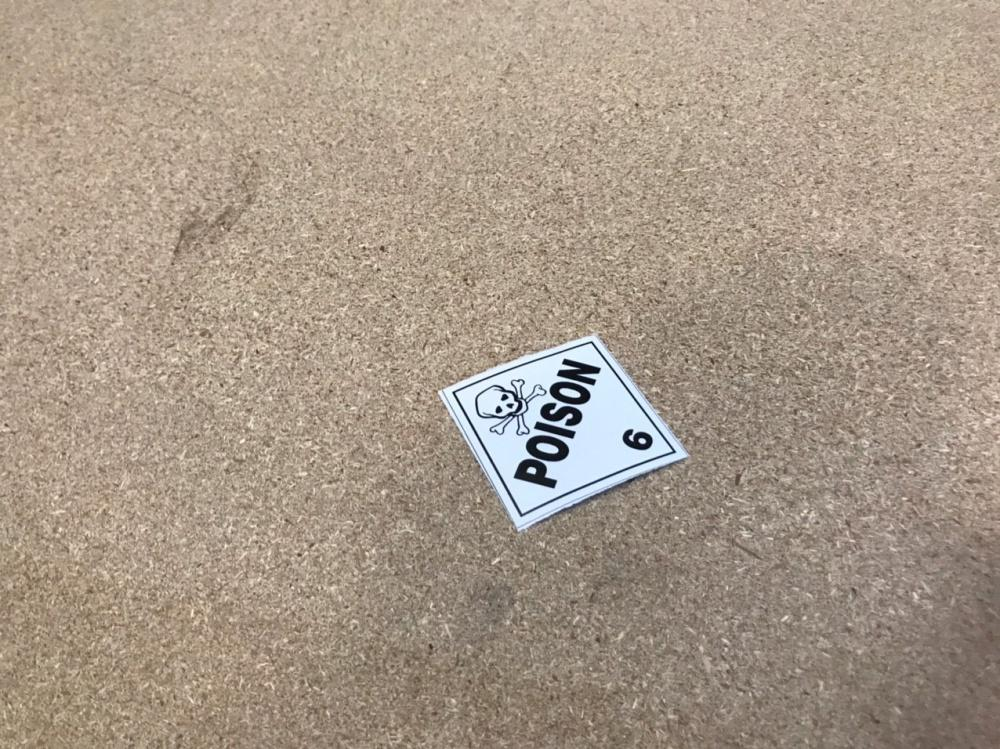poison: (439, 331, 690, 529)
